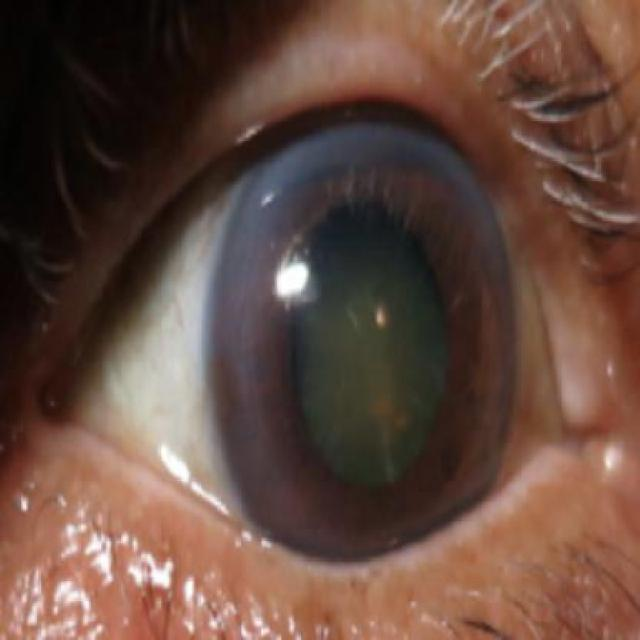Cataract: (208, 98, 520, 589)
